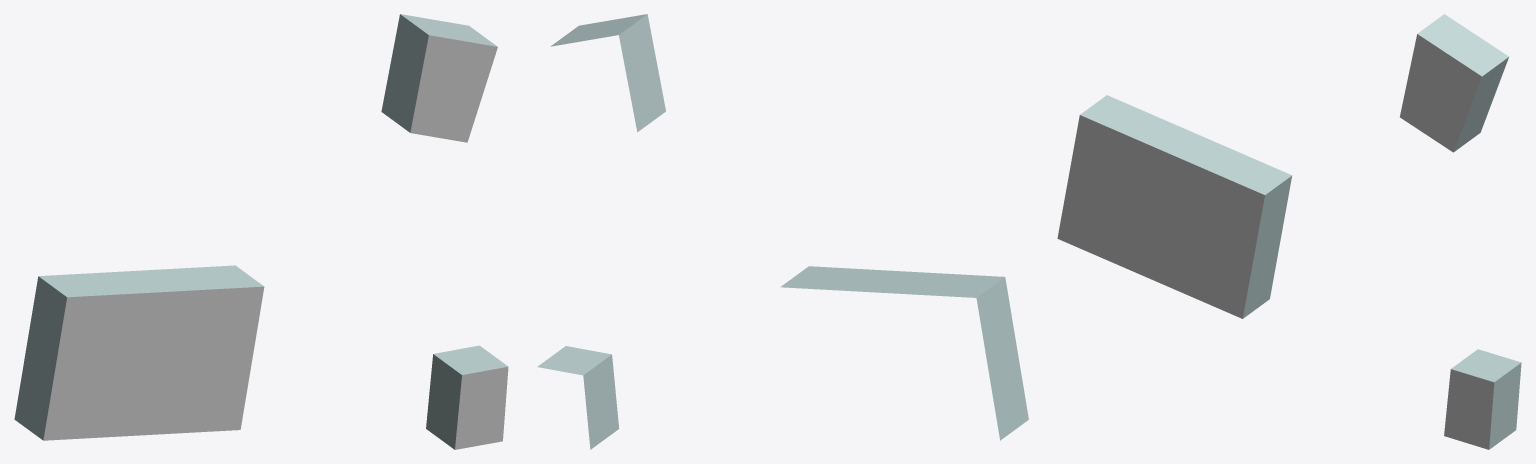
3 views of the same model, side by side, from view 1: azimuth 30°, elevation 25°; view 2: azimuth 150°, elevation 25°; view 3: azimuth 330°, elevation 25° (orthographic). The views are drawn at different scales.
Parts seen in each view (by area): view 1: 0_1_0_1_1_2_3_3_1; view 2: 0_1_0_1_1_2_3_3_1; view 3: 0_1_0_1_1_2_3_3_1.
Part boxes in pixels (x1,y1,x2,y2): 0_1_0_1_1_2_3_3_1: (14,14,508,449); 0_1_0_1_1_2_3_3_1: (537,14,1028,449); 0_1_0_1_1_2_3_3_1: (1057,14,1521,449).
Bounding box in the file's own units: 27.84 × 24.34 × 3.13.
